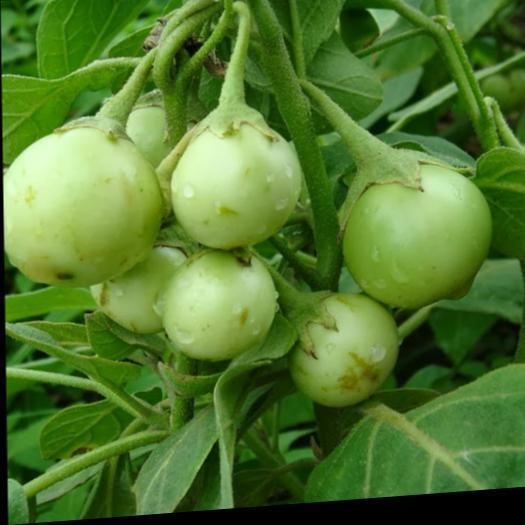eggplant: (225, 77, 524, 424), (0, 44, 186, 310), (169, 10, 314, 259), (94, 241, 295, 381)
